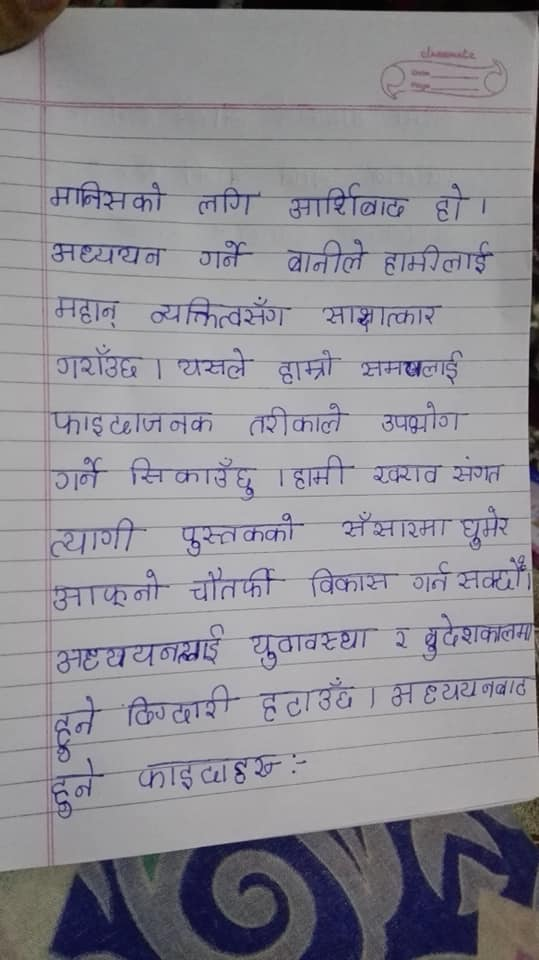text: (54, 623, 226, 675), (124, 456, 259, 501), (132, 753, 283, 790), (284, 182, 413, 223), (423, 613, 535, 660), (49, 570, 171, 613), (246, 627, 380, 666), (47, 407, 215, 438), (181, 513, 305, 555), (387, 674, 535, 708), (149, 294, 295, 328), (128, 685, 241, 727), (50, 178, 170, 216), (257, 677, 356, 722), (381, 242, 497, 279), (315, 298, 447, 330), (358, 350, 466, 388), (247, 402, 351, 439), (48, 517, 149, 555), (47, 240, 168, 271), (340, 509, 452, 542), (54, 343, 147, 382), (189, 565, 286, 601), (49, 760, 105, 819), (281, 238, 369, 275), (378, 400, 470, 433), (307, 567, 400, 598), (52, 696, 95, 761), (49, 294, 124, 331), (456, 556, 528, 593), (275, 348, 342, 387), (176, 346, 255, 379), (289, 454, 357, 490), (459, 506, 512, 550), (195, 187, 263, 219), (51, 456, 107, 492), (197, 238, 254, 273), (370, 461, 443, 488), (434, 180, 471, 225), (451, 456, 505, 485), (409, 562, 453, 592), (390, 621, 414, 654)
